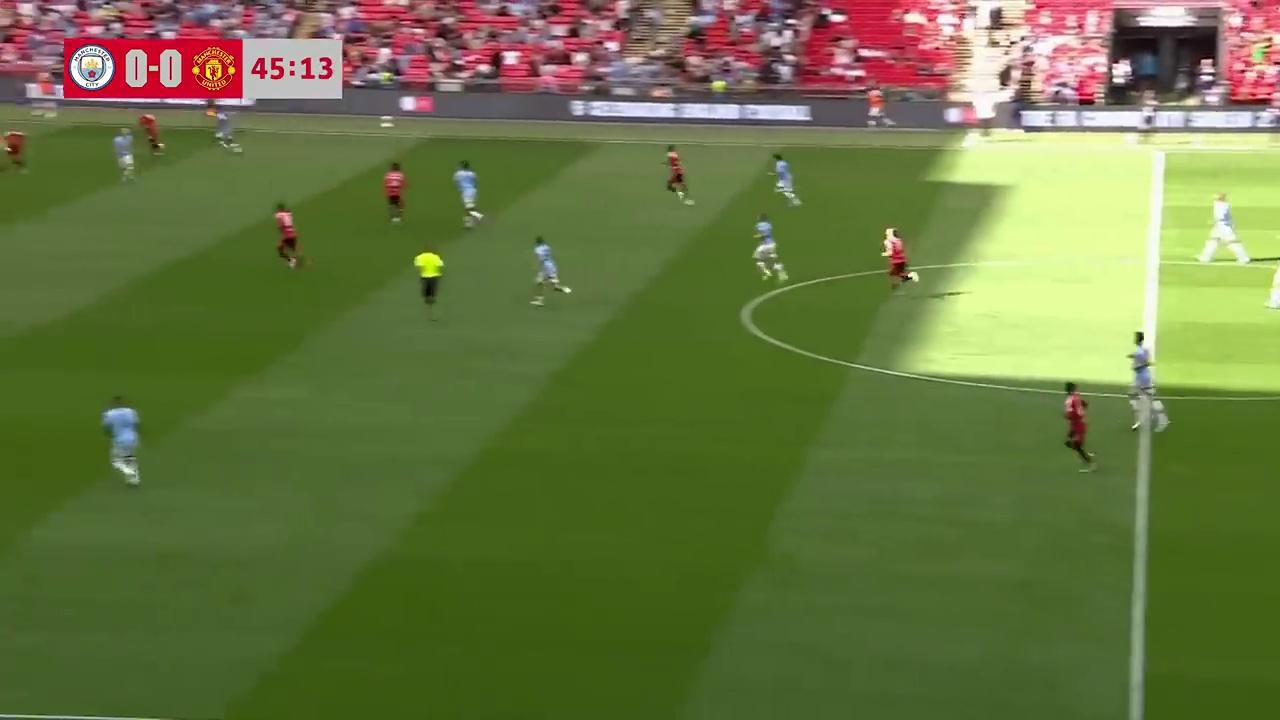player: (1125, 330, 1170, 433), (101, 393, 142, 488), (1197, 193, 1248, 265), (1062, 386, 1097, 473), (530, 235, 571, 304), (752, 212, 789, 282), (881, 226, 919, 288), (274, 203, 307, 269), (453, 160, 482, 224), (770, 154, 802, 207), (663, 146, 691, 204), (382, 162, 408, 224), (0, 127, 29, 173), (112, 128, 135, 181), (213, 109, 240, 152), (138, 111, 164, 155), (1264, 263, 1280, 315)
referee: (413, 245, 443, 309)
